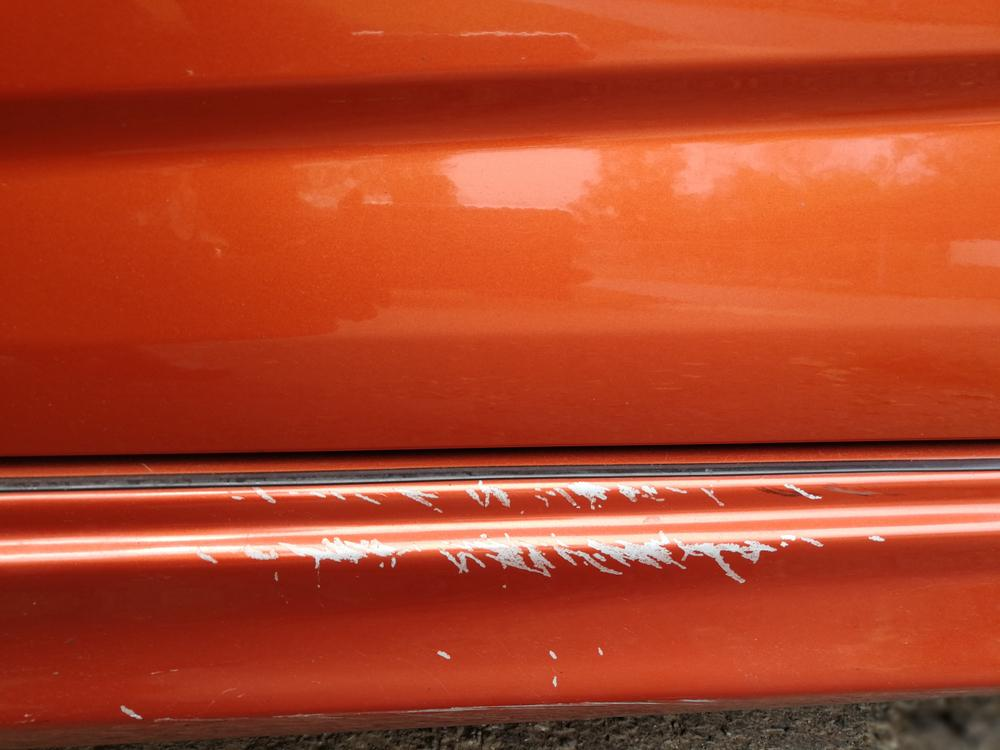scratch: (188, 475, 894, 592)
